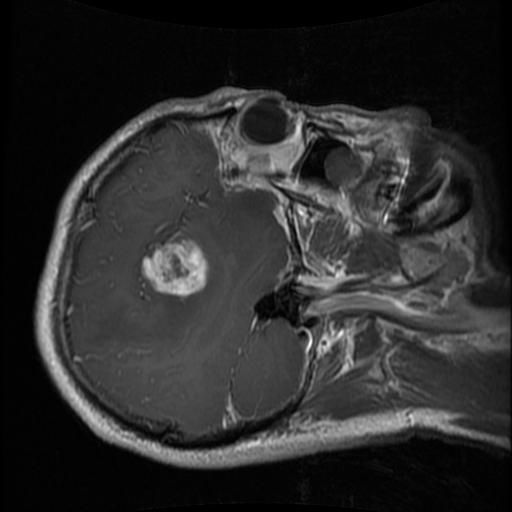glioma: (140, 239, 206, 294)
